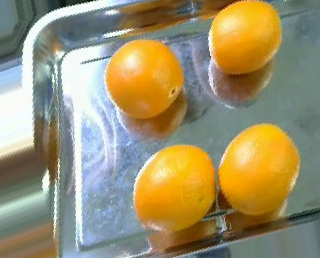Orange: (218, 123, 300, 216), (131, 143, 216, 232), (103, 38, 182, 119), (208, 1, 284, 73)
